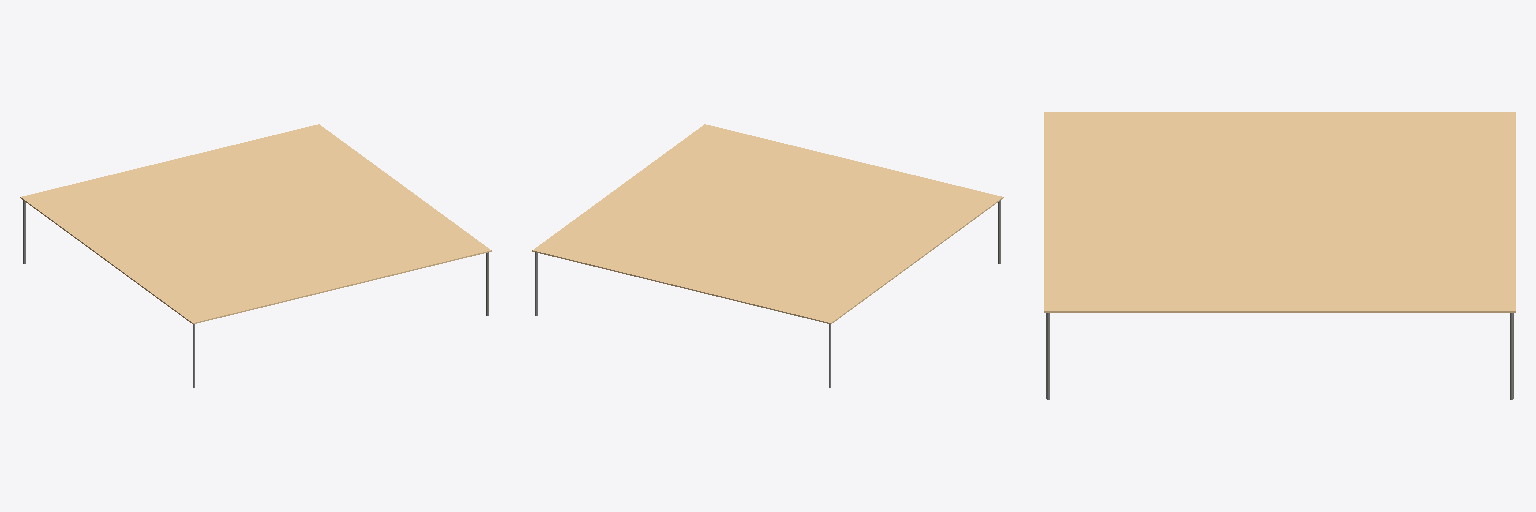
The robot description file, URDF, robot "box":
<?xml version="1.0" ?>
<robot name="box">

    <material name="panda_white">
        <color rgba="1. 0.87 0.68 1."/>
    </material>

    <material name="metal">
        <color rgba="0.6 0.6 0.6 1."/>
    </material>

    <material name="orangered">
        <color rgba="1 0.34 0.2 0.5"/>
    </material>


    <link name="link1">
        <inertial>
            <origin rpy="0 0 0" xyz="0 0 0"/>
            <mass value=".0"/>
            <inertia ixx="0" ixy="0" ixz="0" iyy="0" iyz="0" izz="0"/>
        </inertial>

        <visual>
            <origin rpy="0 0 0" xyz="0.0 0 0.25"/>
            <geometry>
                <box size="1.2 1.2 0.005"/>
            </geometry>
            <material name="panda_white"/>
        </visual>
    </link>

    <link name="link2">
        <inertial>
            <origin rpy="0 0 0" xyz="0 0 0"/>
            <mass value=".0"/>
            <inertia ixx="0" ixy="0" ixz="0" iyy="0" iyz="0" izz="0"/>
        </inertial>

        <visual>
            <origin rpy="0 0 0" xyz="0.59 0.59 0.125"/>
            <geometry>
                <cylinder radius="0.005" length="0.25"/>
            </geometry>
            <material name="metal"/>
        </visual>

        <visual>
            <origin rpy="0 0 0" xyz="0.59 -0.59 0.125"/>
            <geometry>
                <cylinder radius="0.005" length="0.25"/>
            </geometry>
            <material name="metal"/>
        </visual>

        <visual>
            <origin rpy="0 0 0" xyz="-0.59 0.59 0.125"/>
            <geometry>
                <cylinder radius="0.005" length="0.25"/>
            </geometry>
            <material name="metal"/>
        </visual>

        <visual>
            <origin rpy="0 0 0" xyz="-0.59 -0.59 0.125"/>
            <geometry>
                <cylinder radius="0.005" length="0.25"/>
            </geometry>
            <material name="metal"/>
        </visual>

    </link>
    

    <joint name="fixed_joint" type="fixed">
        <parent link="link1"/>
        <child link="link2"/>
        <origin xyz="0 0 0" rpy="0 0 0"/>
    </joint>

</robot>

--- Facts derived from the render (not from the file) ---
The picture shows the robot from 3 angles, left to right: view 1: azimuth 30°, elevation 25°; view 2: azimuth 150°, elevation 25°; view 3: azimuth 270°, elevation 25°; orthographic projection.
Model box with 2 links and 1 joints (1 fixed), rooted at link1, posed every joint at zero.
Visible links, largest first — view 1: link1; view 2: link1; view 3: link1, link2.
Link boxes in pixels (x1,y1,x2,y2): link1: (20,124,491,323); link1: (532,124,1003,323); link1: (1044,112,1515,312); link2: (1046,313,1513,399).
Bounding box of the posed robot: 1.2 × 1.2 × 0.2525 m (x, y, z).
Geometry: primitives only (box / cylinder / sphere), no mesh files.
